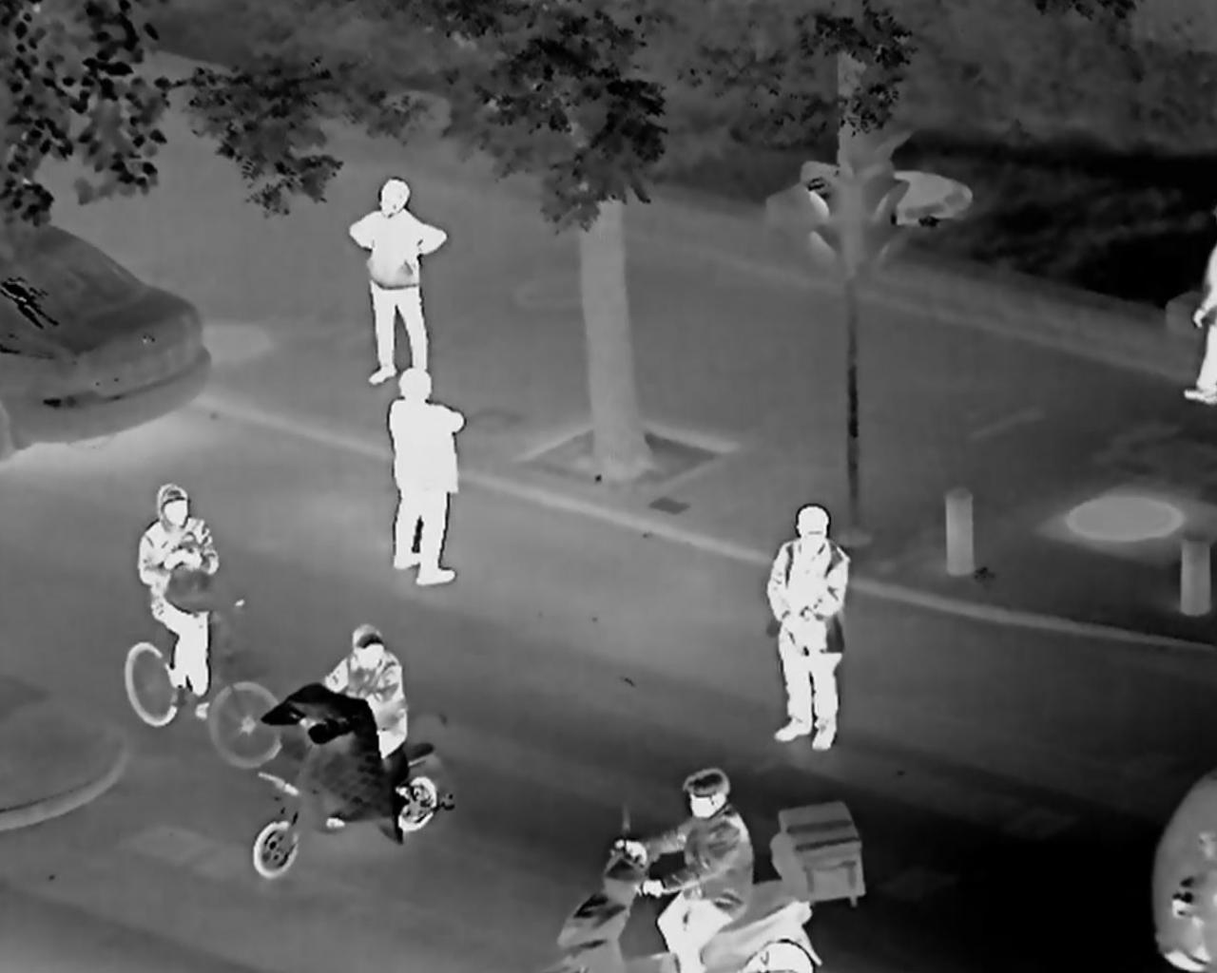person: (759, 484, 889, 743), (376, 375, 475, 642), (655, 758, 761, 973), (133, 474, 228, 709), (350, 171, 446, 370), (312, 627, 415, 788)
